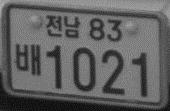0: (72, 46, 96, 91)
1: (130, 50, 150, 98), (44, 42, 63, 90)
2: (100, 48, 126, 95)
3: (106, 17, 122, 42)
8: (87, 16, 105, 40)
배: (13, 42, 41, 77)
전남_H: (44, 12, 81, 38)
